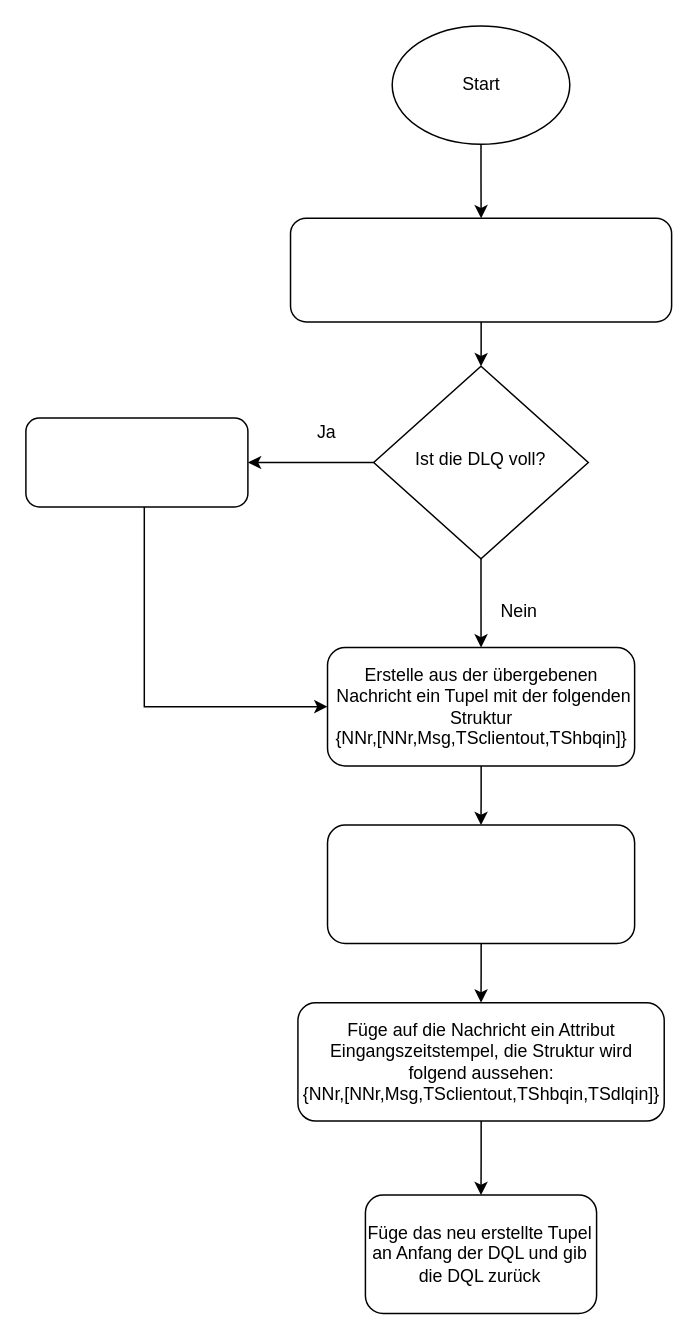
This 699x1339 diagram has some shape labels left out. Here are the shapes that lost their labels. From the top down, the box of each, then its label:
(289, 217, 672, 322): push2DLQ ([NNr,Msg,TSclientout,TShbqin],Queue,Datei)
(24, 417, 248, 507): Lösche den letzten Tupel aus der DLQ(Tupel mit der kleinsten NachrichtenNr)
(326, 824, 635, 944): Füge auf das Attribut Msg ein Eingangszeitstempel
